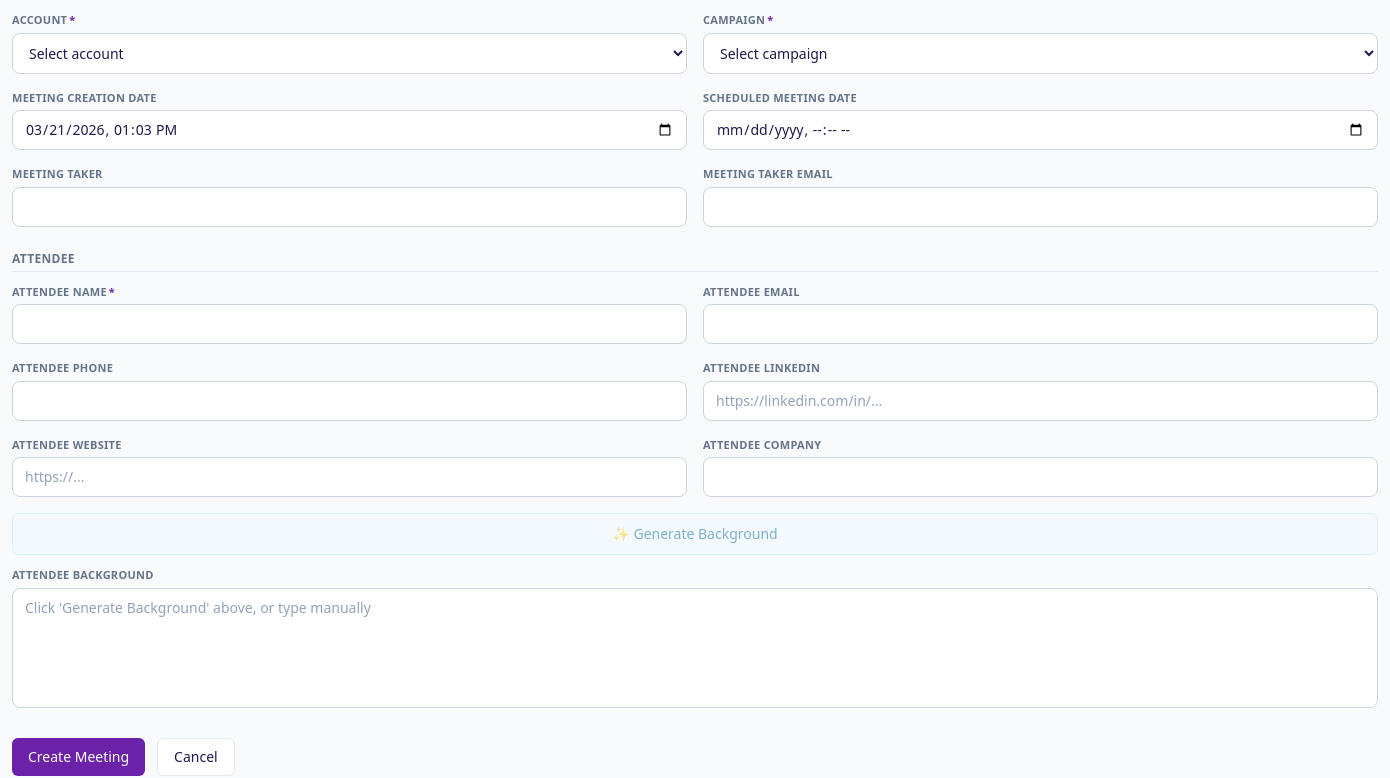
Test: MeetingForm › shows validation error when Attendee Name is empty
Click the button "Create Meeting": click(79, 756) [12,738,145,776]
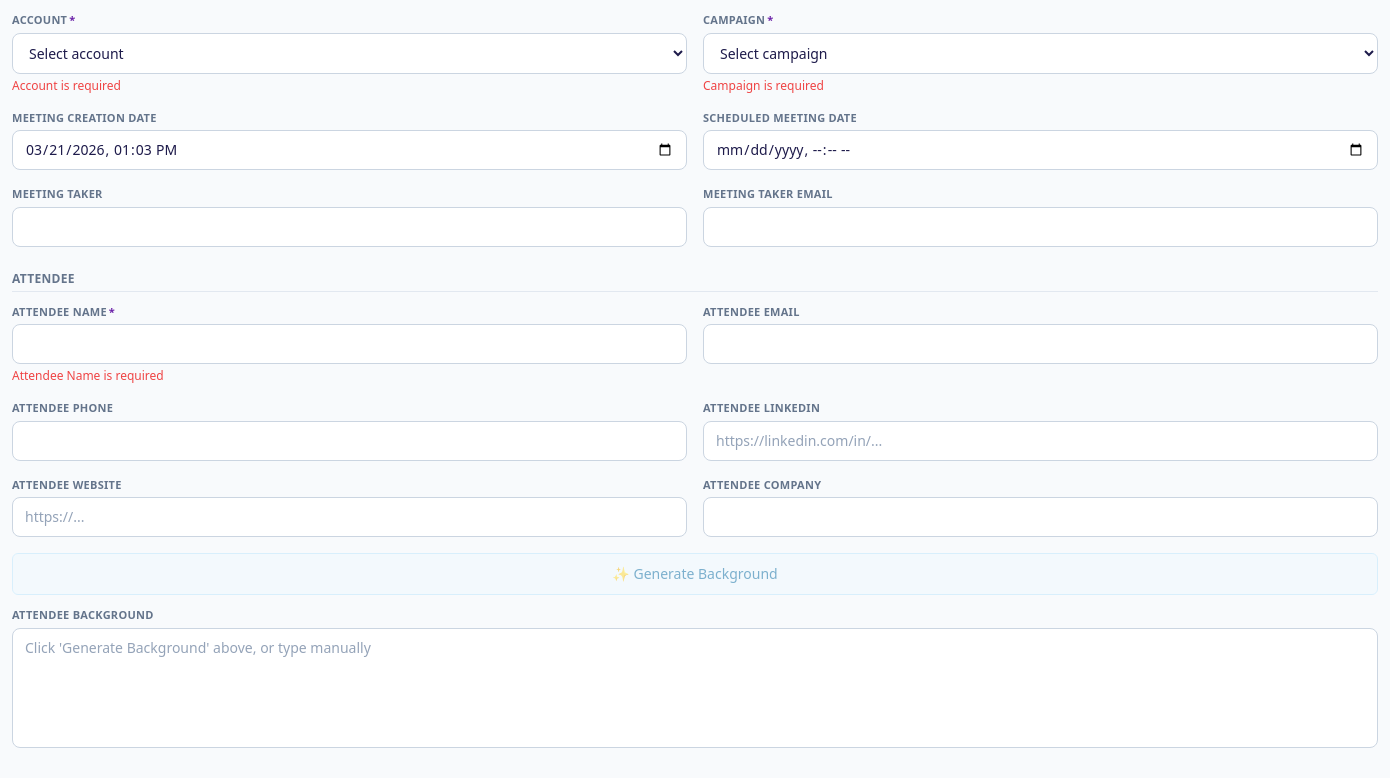
Expected: the text "Attendee Name is required" is shown, [12,367,164,384]
